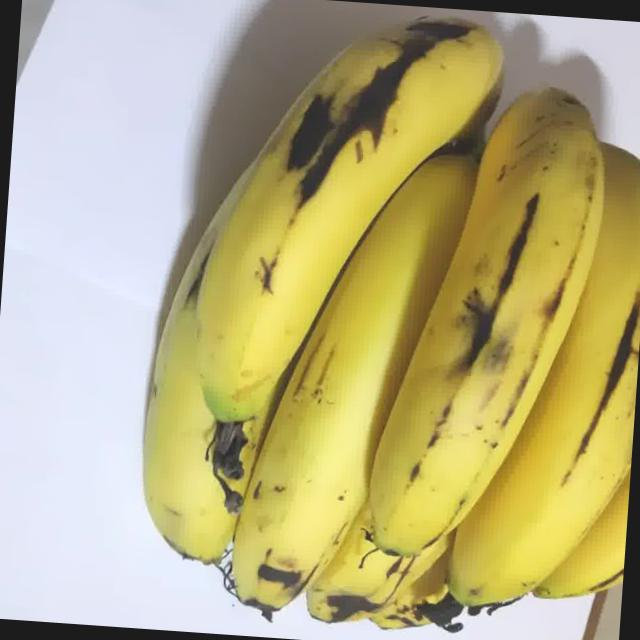banana_pacche: (95, 0, 640, 640)
